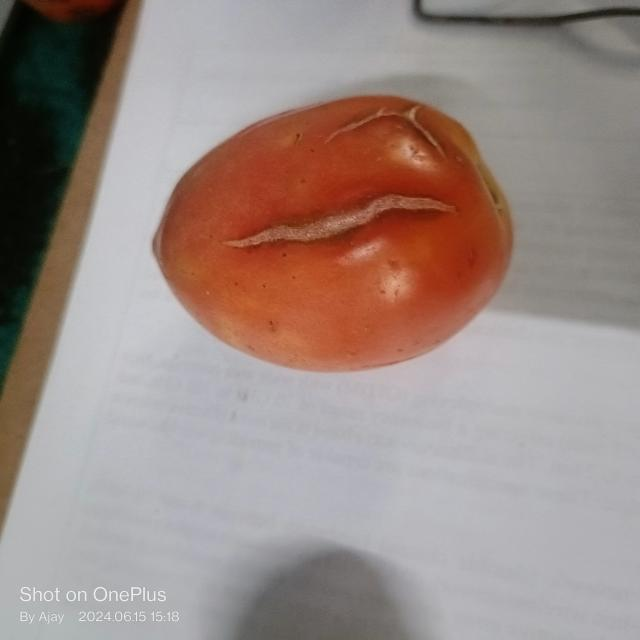tomato_cracking: (229, 193, 463, 246), (325, 104, 443, 155)
